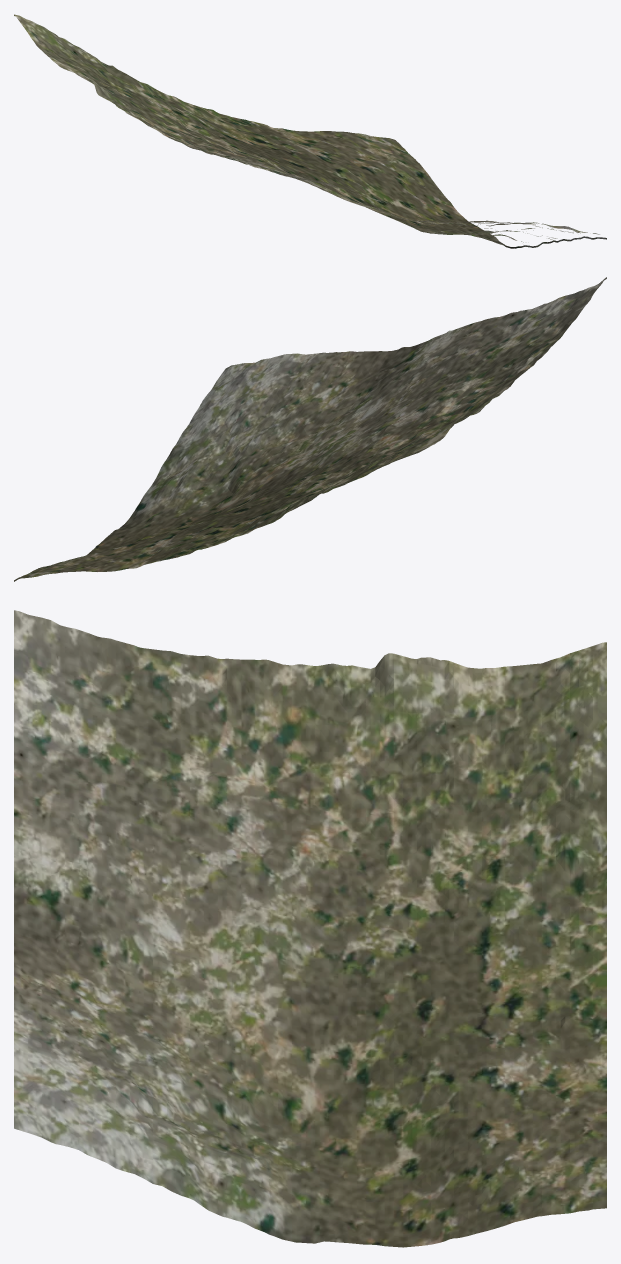
3 views of the same model, one above another, from view 1: azimuth 30°, elevation 25°; view 2: azimuth 150°, elevation 25°; view 3: azimuth 270°, elevation 25° (orthographic). The views are drawn at different scales.
Size of the model in its own units: 250 by 170 by 241.
Materials: 1 (1 with a texture image).
